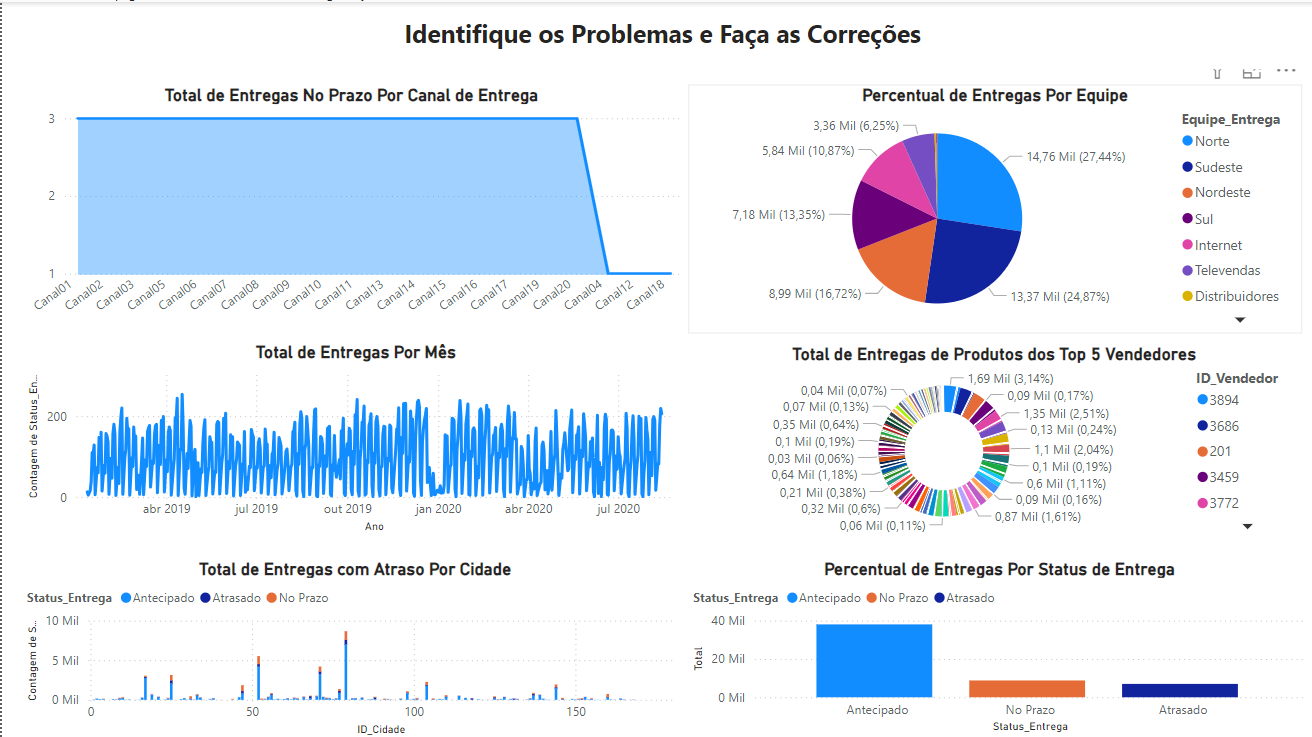

What the dashboard file says about the page in this screenshot:
{"tool":"powerbi","page":{"name":"Página 1","canvas":[1280,720],"ordinal":0},"visuals":[{"type":"stackedAreaChart","title":"Total de Entregas no Prazo Por Canal de Entrega","fields":{"Category":["Logistica.Canal_Entrega"],"Y":["Medidas (3).Pedidos"]},"box":[0,456.1,513.6,264.1],"z":0},{"type":"clusteredBarChart","title":"Percentual de Entregas por Equipe","fields":{"Category":["Logistica.Equipe_Entrega"],"Y":["Medidas (3).Total Entregas"]},"box":[545.4,105.2,512.4,397.4],"z":1000},{"type":"lineChart","fields":{"Category":["Logistica.Data_Entrega_Realizada.Variation.Hierarquia de datas.Mês","Logistica.Data_Entrega_Realizada.Variation.Hierarquia de datas.Ano"],"Y":["Medidas (3).Total Entregas"]},"box":[1.2,222.6,512.4,201.8],"z":2000},{"type":"tableEx","title":"Total de Entrega dos Top 5 Vendedores","fields":{"Values":["Logistica.ID_Vendedor","Medidas (3).Total Entregas","Medidas (3).Classificação por estrelas Total Entregas"]},"box":[545.9,531.7,305,188.2],"z":3000},{"type":"tableEx","title":"Total de Entregas Com Atraso Por Cidade","fields":{"Values":["Medidas (3).Total Entregas","Logistica.ID_Cidade"]},"box":[1078.5,105.2,201.8,397.4],"z":4000},{"type":"columnChart","title":"Percentual de Status de Entrega","fields":{"Y":["Medidas (3).Total Entregas"],"Category":["Logistica.Status_Entrega"]},"box":[878,531.7,402,188.2],"z":5000},{"type":"card","fields":{"Values":["Medidas (3).Total Entregas"]},"box":[0,105.2,234.8,103.9],"z":6000},{"type":"card","fields":{"Values":["Medidas (3).Total Entrega Prazos"]},"box":[270.2,105.2,243.3,103.9],"z":7000},{"type":"textbox","box":[469,0,459,85.5],"z":8000}]}

Visuals, with their boxes in screenshot pixels (x1, y1, x2, y2), scaled from the page's 1280x720 canvas onto the 1312x737 screenshot:
"Total de Entregas no Prazo Por Canal de Entrega" stackedAreaChart: bbox=[0, 467, 526, 736]
"Percentual de Entregas por Equipe" clusteredBarChart: bbox=[559, 108, 1084, 514]
lineChart - Logistica.Data_Entrega_Realizada.Variation.Hierarquia de datas.Mês x Logistica.Data_Entrega_Realizada.Variation.Hierarquia de datas.Ano: bbox=[1, 228, 526, 434]
"Total de Entrega dos Top 5 Vendedores" tableEx: bbox=[560, 544, 872, 736]
"Total de Entregas Com Atraso Por Cidade" tableEx: bbox=[1105, 108, 1311, 514]
"Percentual de Status de Entrega" columnChart: bbox=[900, 544, 1311, 736]
card - Medidas (3).Total Entregas: bbox=[0, 108, 241, 214]
card - Medidas (3).Total Entrega Prazos: bbox=[277, 108, 526, 214]
textbox: bbox=[481, 0, 951, 88]
